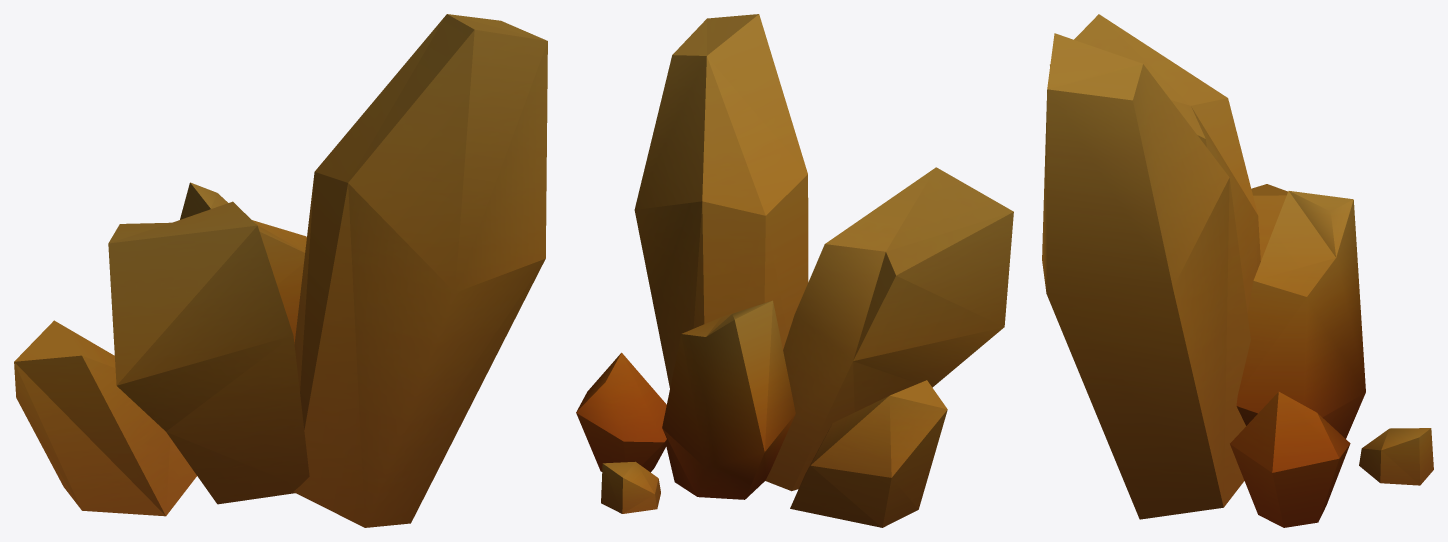
File: ZLP_Crystalk_D_10.FBX
The picture shows the model from 3 angles, left to right: view 1: azimuth 30°, elevation 25°; view 2: azimuth 150°, elevation 25°; view 3: azimuth 270°, elevation 25°; orthographic projection. The views are drawn at different scales.
Parts seen in each view (by area): view 1: ZLP_Crystalk_D_10; view 2: ZLP_Crystalk_D_10; view 3: ZLP_Crystalk_D_10.
Part boxes in pixels (bbox=[...]): ZLP_Crystalk_D_10: bbox=[14, 14, 547, 527]; ZLP_Crystalk_D_10: bbox=[576, 14, 1013, 527]; ZLP_Crystalk_D_10: bbox=[1042, 14, 1433, 527].
Size of the model in its own units: 141 by 156 by 112.
